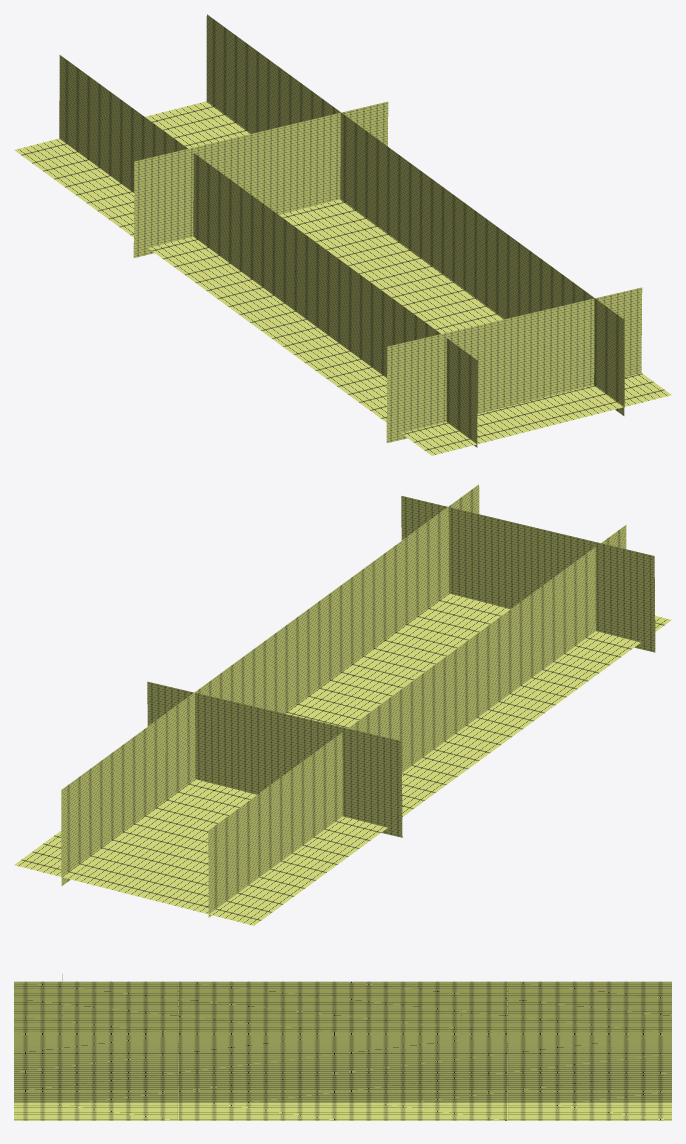
File: Haikei.FBX
3 views of the same model, one above another, from view 1: azimuth 30°, elevation 25°; view 2: azimuth 150°, elevation 25°; view 3: azimuth 270°, elevation 25° (orthographic). The views are drawn at different scales.
Parts seen in each view (by area): view 1: Plane003, Plane001, Plane002, Plane005, Plane004; view 2: Plane003, Plane001, Plane002, Plane004, Plane005; view 3: Plane001, Plane002, Plane003.
Boxes of the visible parts, bbox=[...] form: Plane003: bbox=[14, 101, 671, 455]; Plane001: bbox=[206, 14, 624, 415]; Plane002: bbox=[59, 55, 477, 447]; Plane005: bbox=[386, 287, 642, 442]; Plane004: bbox=[133, 101, 388, 257]; Plane003: bbox=[14, 593, 671, 925]; Plane001: bbox=[61, 484, 479, 885]; Plane002: bbox=[208, 525, 626, 917]; Plane004: bbox=[147, 681, 402, 837]; Plane005: bbox=[401, 496, 655, 652]; Plane001: bbox=[14, 1034, 671, 1102]; Plane002: bbox=[14, 981, 671, 1034]; Plane003: bbox=[14, 1103, 671, 1120].
Bounding box in the file's own units: 933943 × 2652366 × 345658.
Materials: 1 (1 with a texture image).
